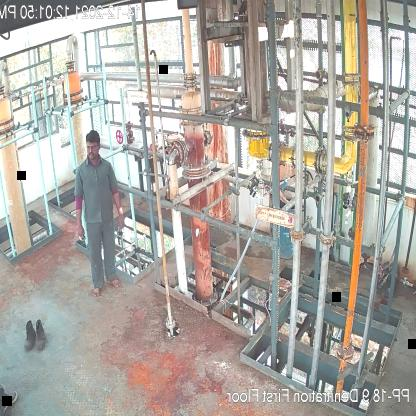no_shoes: (106, 278, 123, 288), (92, 286, 104, 299)
shoes: (32, 318, 47, 352), (23, 321, 35, 350)
